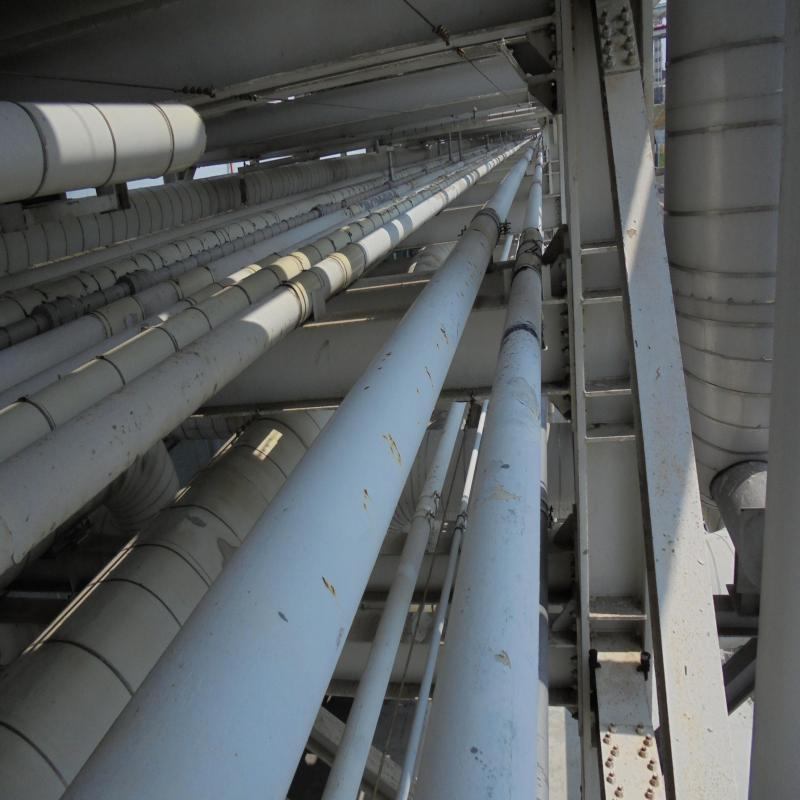corrosion: (380, 428, 406, 459)
